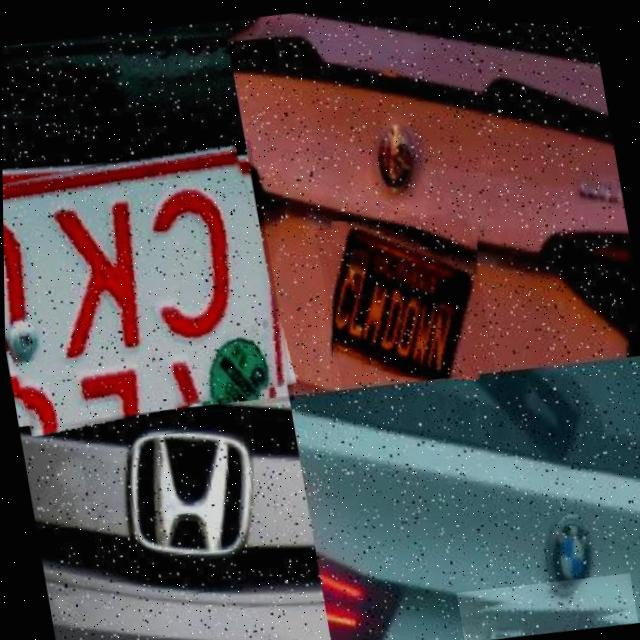LicensePlate: (2, 129, 294, 441), (313, 201, 495, 392), (454, 561, 637, 640)
